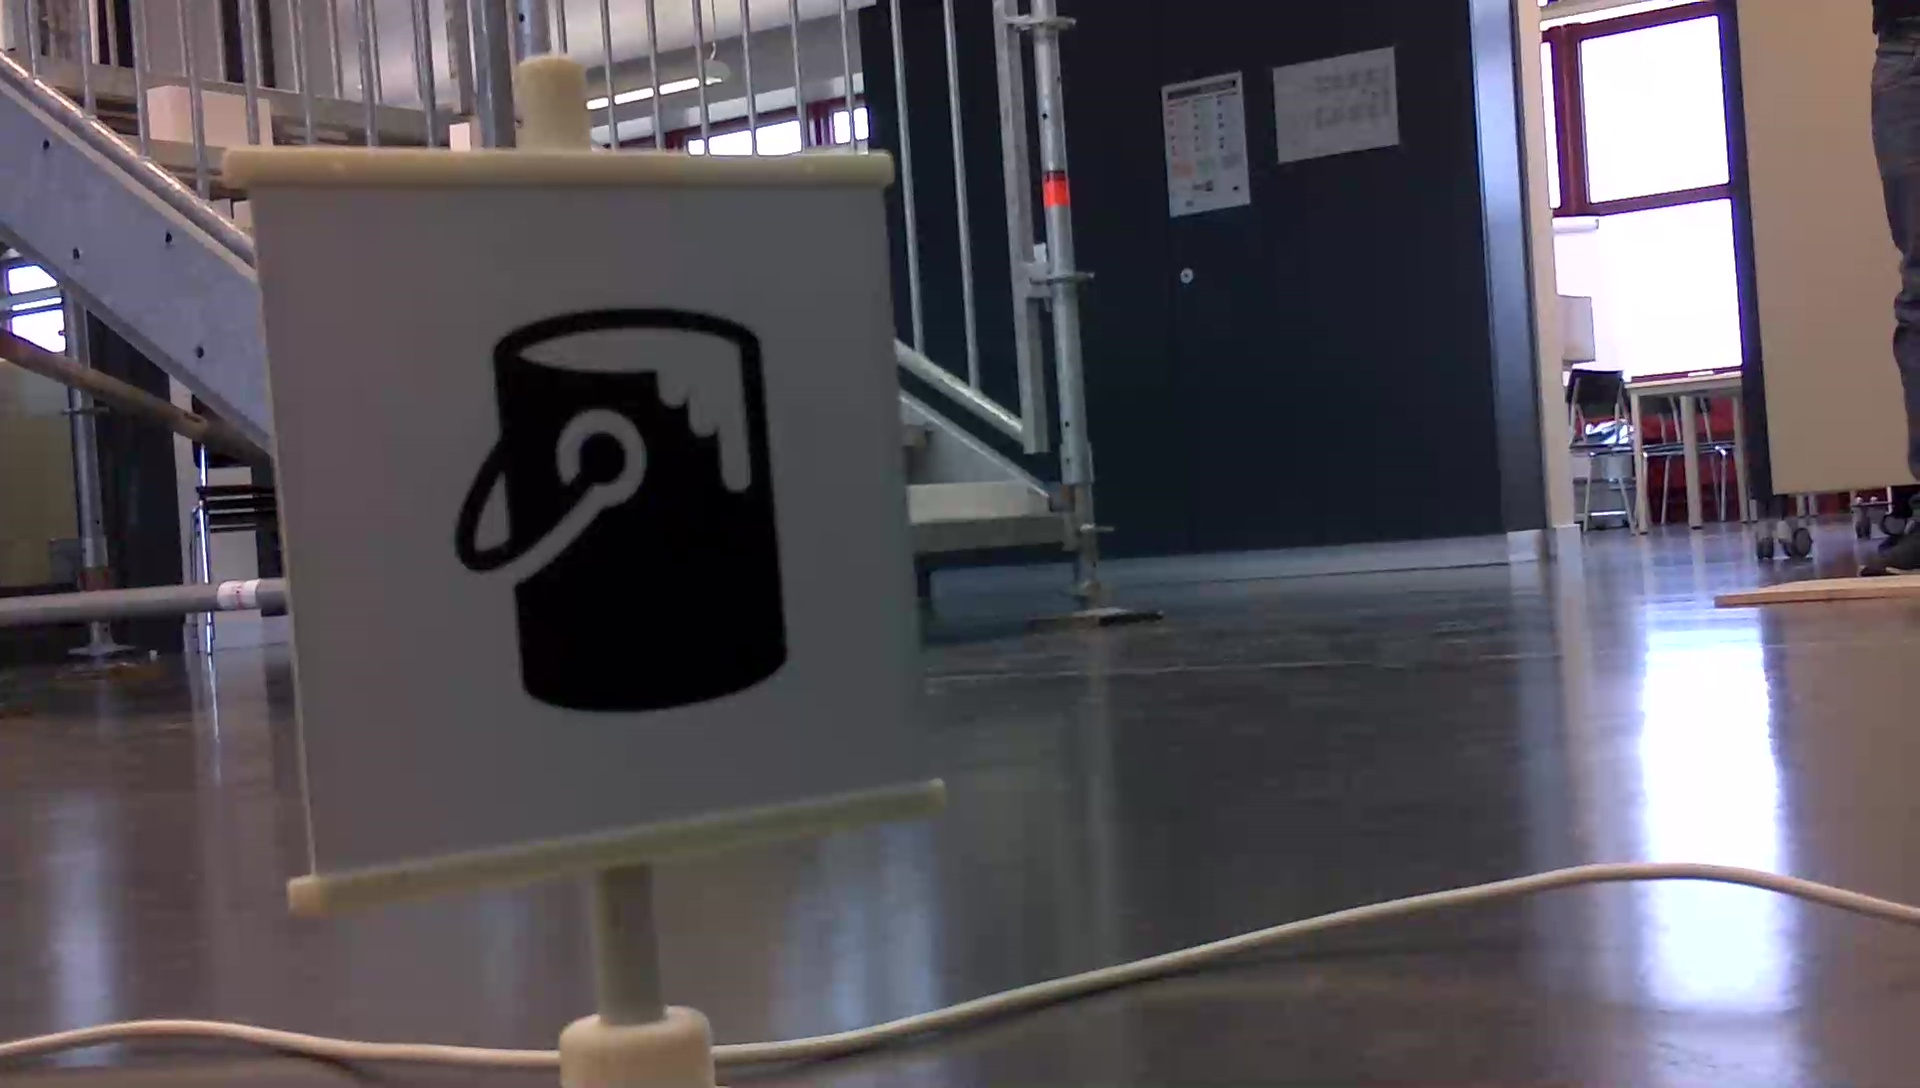brick: (905, 485, 1025, 521)
bucket: (443, 299, 796, 728)
